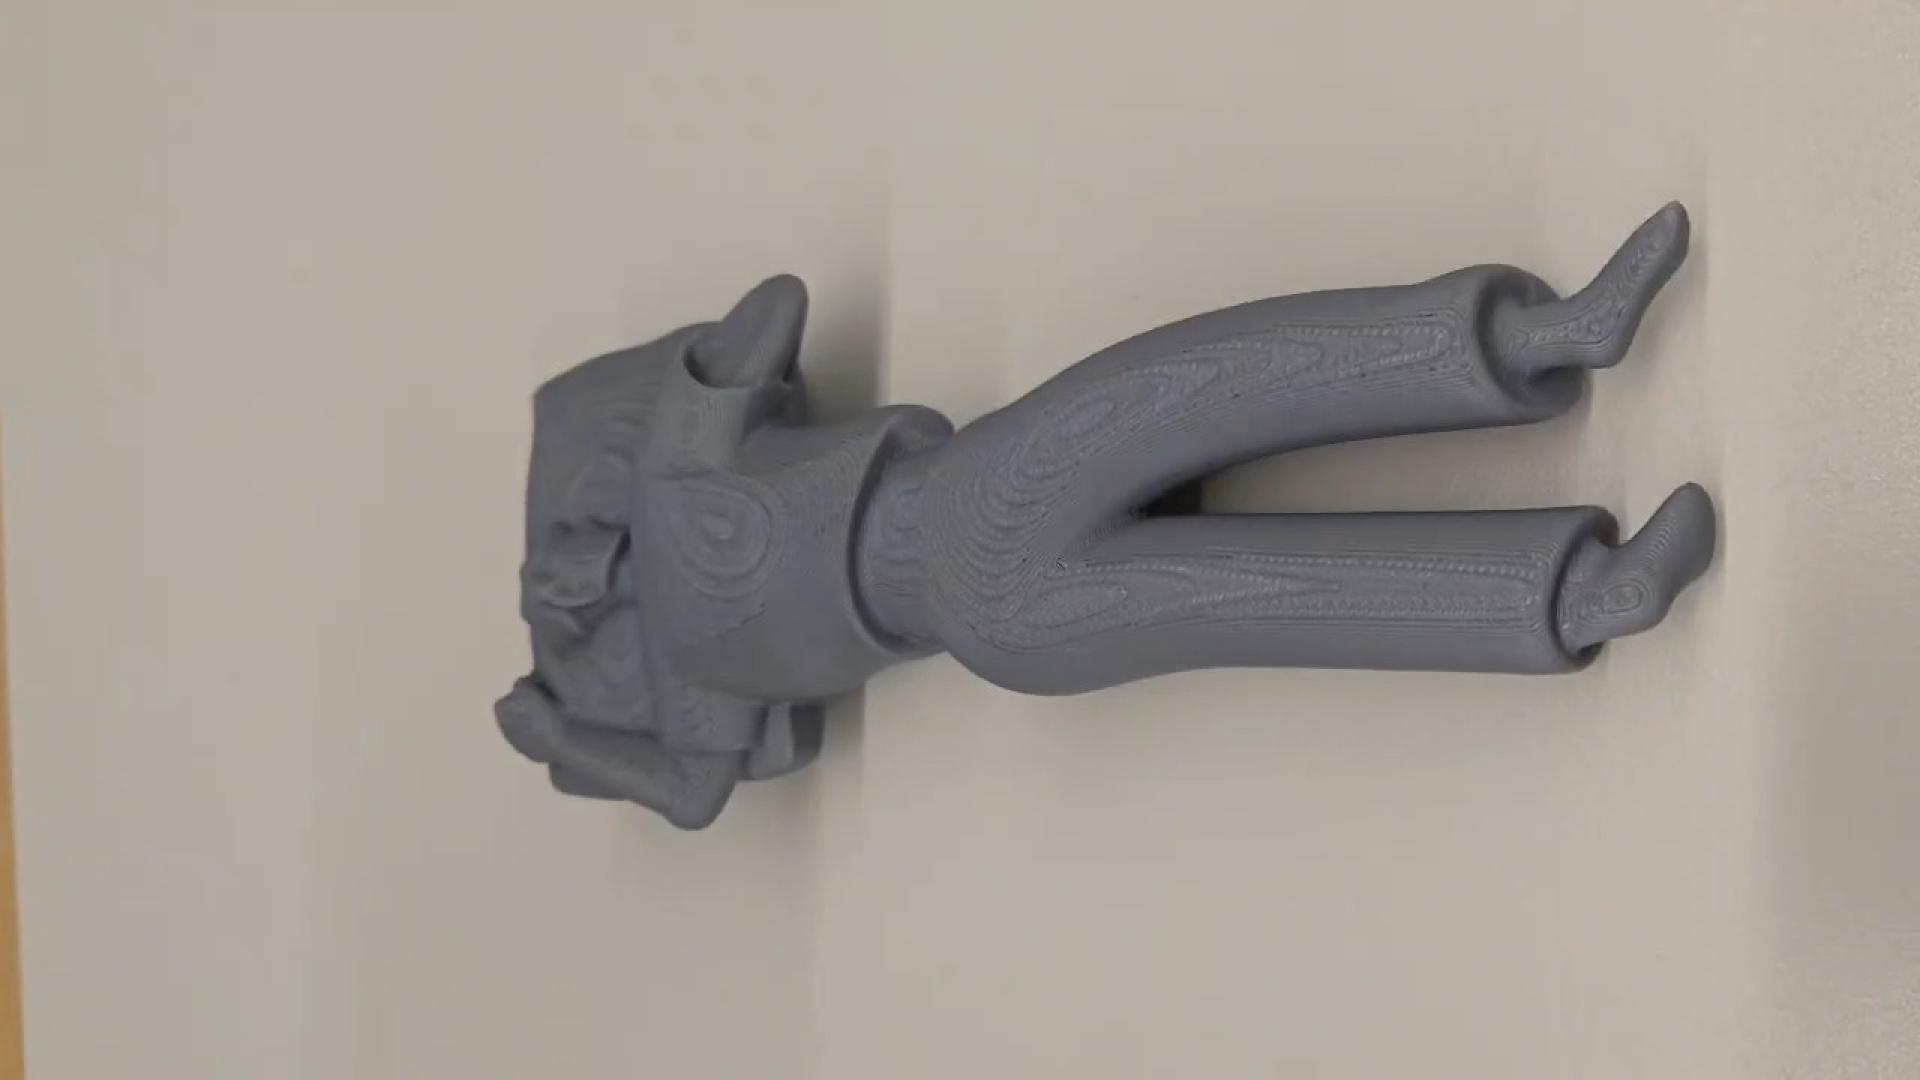Bad-style: (497, 203, 1733, 833)
